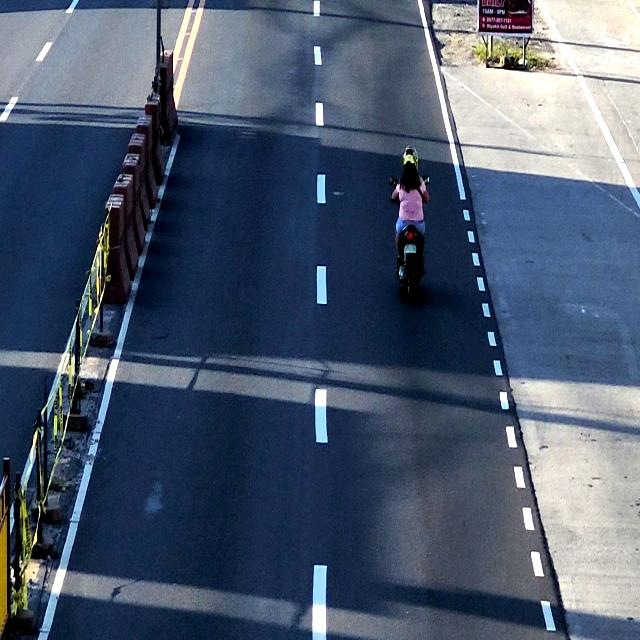License-Plate: (402, 241, 421, 256)
Motorcycle: (394, 143, 429, 301)
